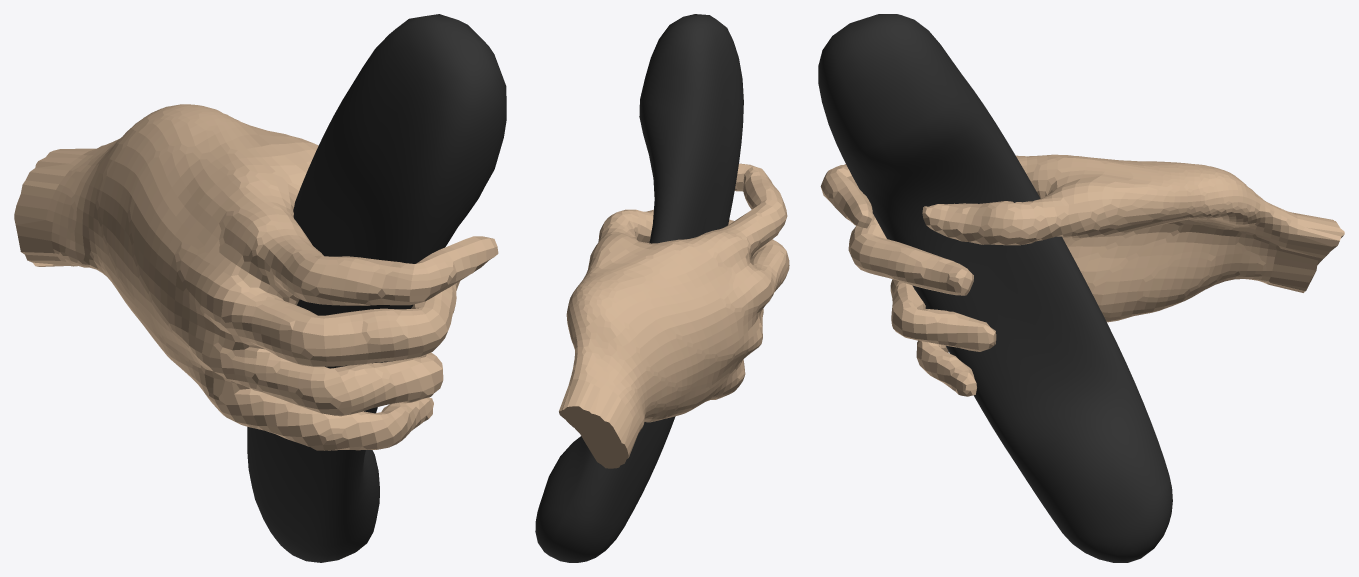
The model's file is hand-with-phone.fbx.
3 views of the same model, side by side, from view 1: azimuth 30°, elevation 25°; view 2: azimuth 150°, elevation 25°; view 3: azimuth 270°, elevation 25° (orthographic). The views are drawn at different scales.
Parts seen in each view (by area): view 1: Object03_Object03.002, Line01; view 2: Object03_Object03.002, Line01; view 3: Line01, Object03_Object03.002.
Boxes of the visible parts, x1=… form: Object03_Object03.002: x1=14, y1=104, x2=498, y2=450; Line01: x1=247, y1=14, x2=506, y2=562; Object03_Object03.002: x1=559, y1=163, x2=789, y2=468; Line01: x1=535, y1=14, x2=743, y2=562; Line01: x1=818, y1=14, x2=1172, y2=562; Object03_Object03.002: x1=820, y1=154, x2=1344, y2=396.
Bounding box in the file's own units: 302 × 794 × 712.
